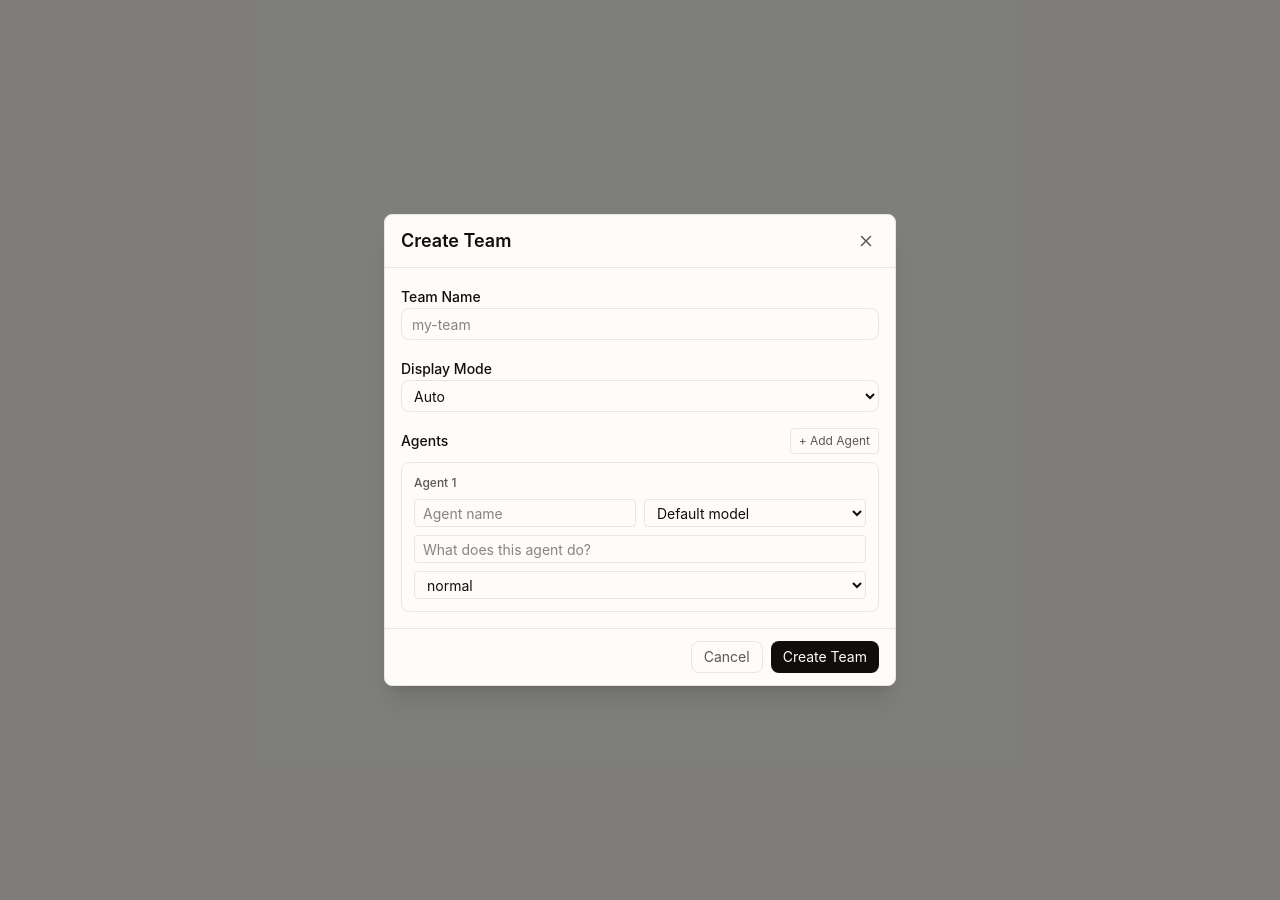
Scenario: TeamCreationDialog › removes an agent form when clicking Remove
Click the button with test id "add-agent-button".
click(834, 441)  # box [790,428,879,454]
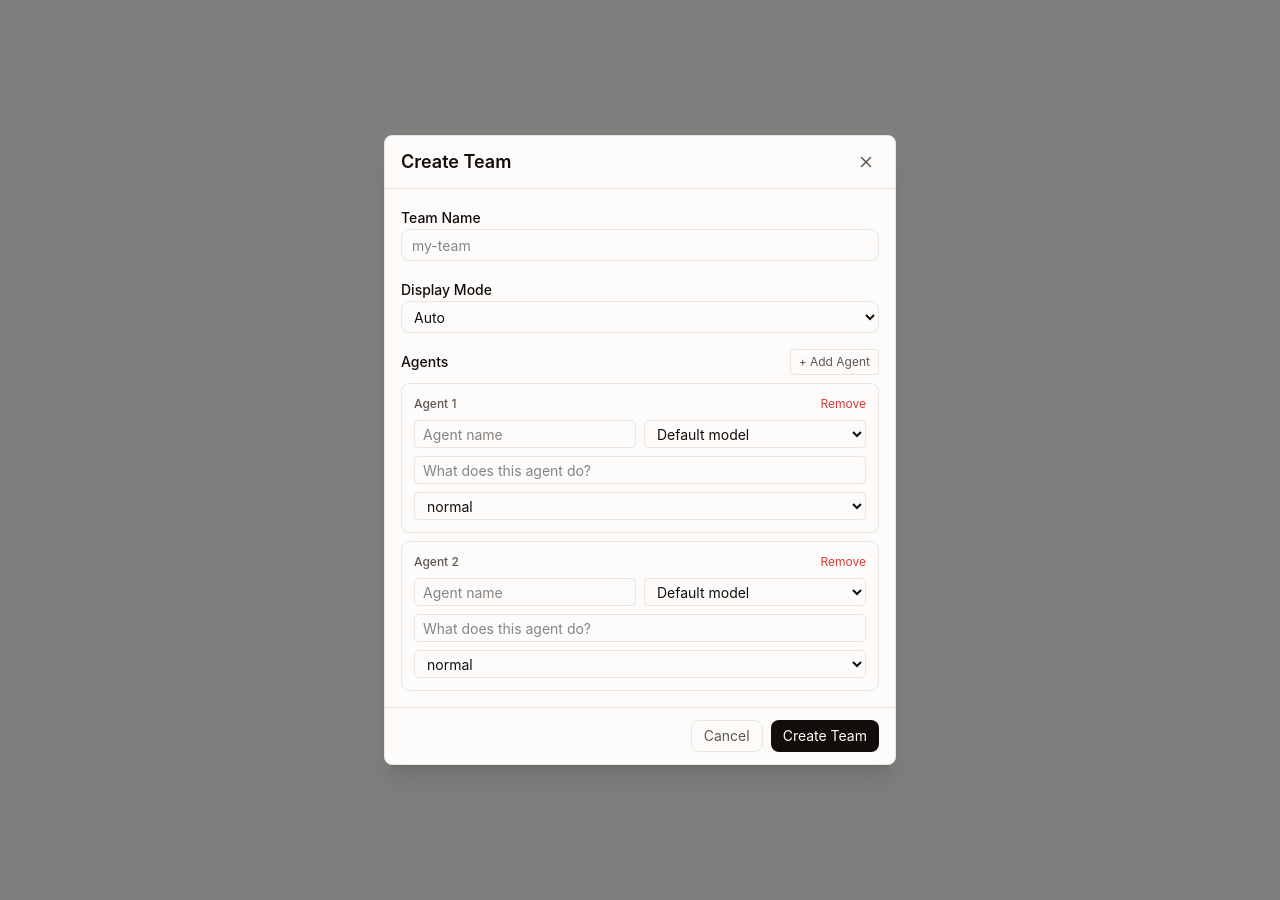
Check: the element with test id "agent-form-1" is shown, box [401,541,879,691]
Click the button with test id "remove-agent-1".
click(843, 562)  # box [820,554,866,570]
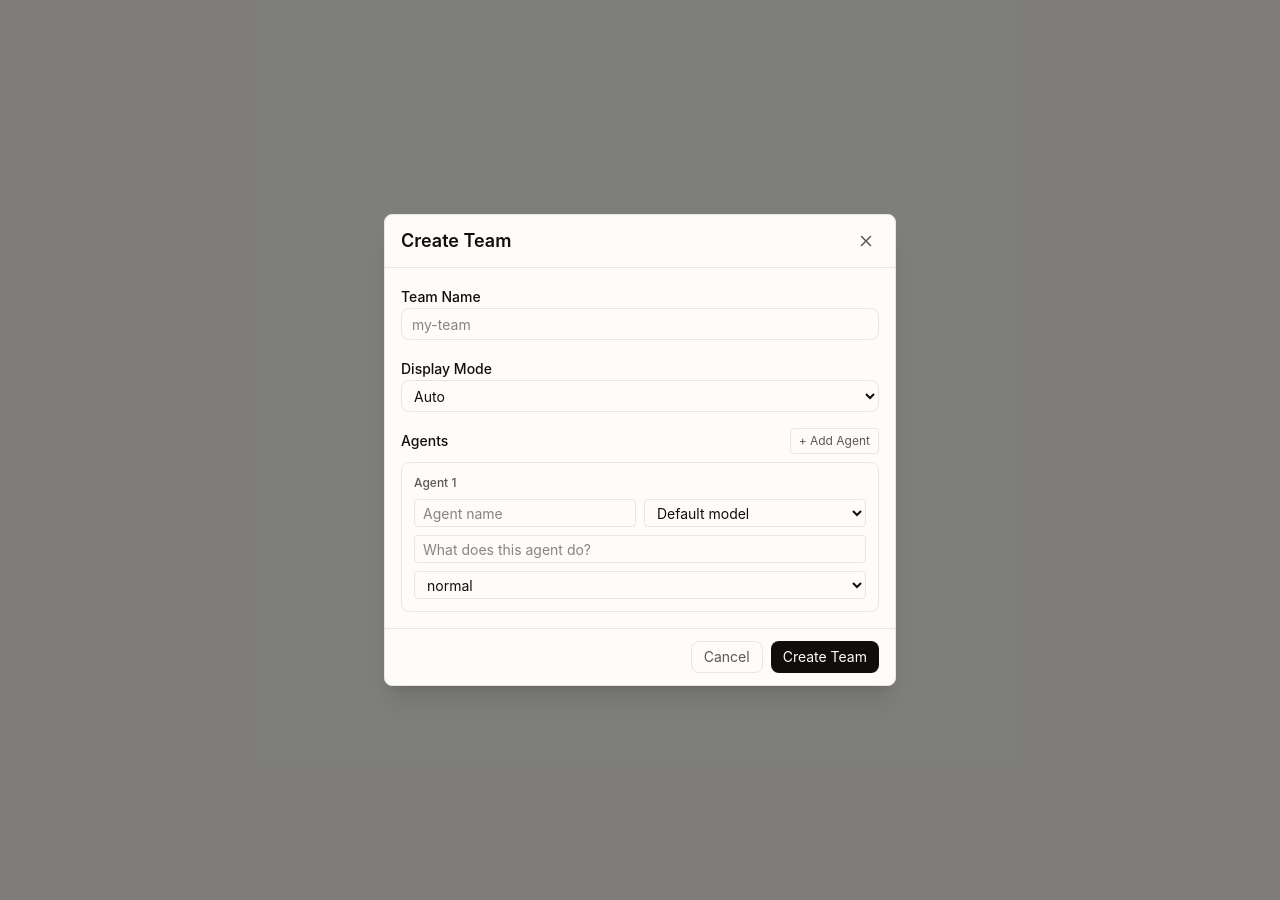
Check: the element with test id "agent-form-1" is gone
